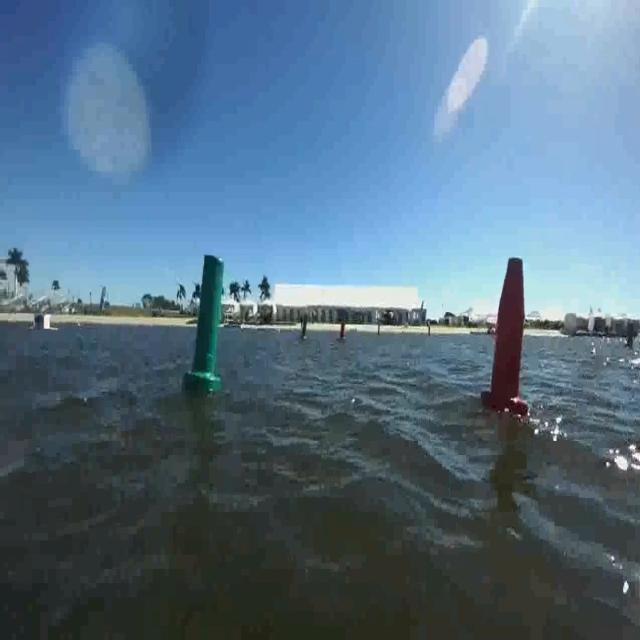green-column-buoy: (188, 255, 228, 395)
red-column-buoy: (481, 255, 527, 417)
